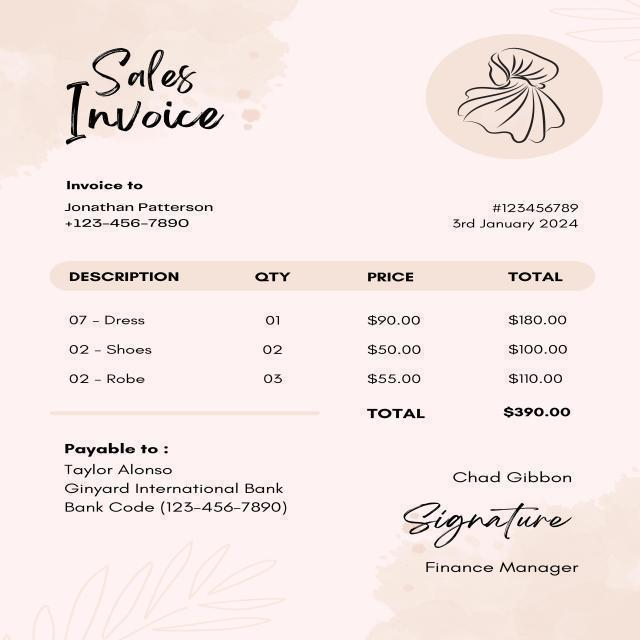paragraph: (394, 462, 599, 585), (56, 434, 294, 523), (58, 43, 236, 151), (59, 173, 224, 236), (360, 398, 576, 427), (447, 195, 586, 240)
table: (57, 259, 579, 391)
